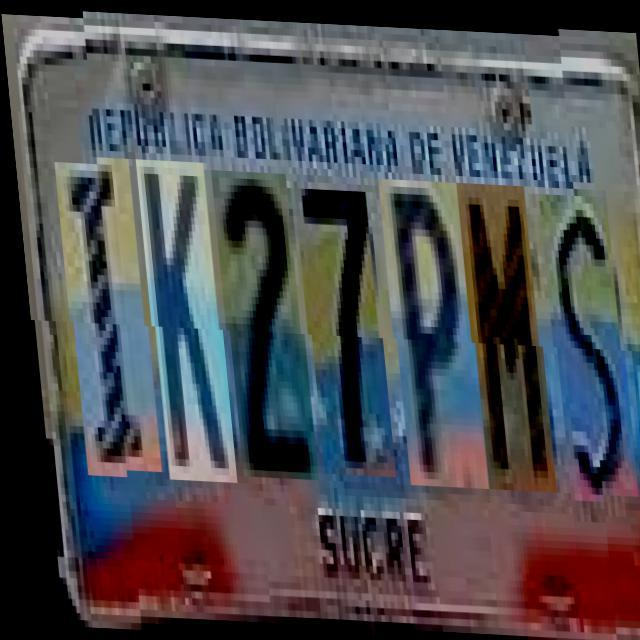2: (211, 168, 309, 477)
7: (293, 172, 387, 474)
I: (54, 155, 152, 471)
K: (136, 158, 228, 481)
M: (456, 178, 547, 487)
P: (378, 175, 479, 484)
S: (538, 188, 630, 498)
